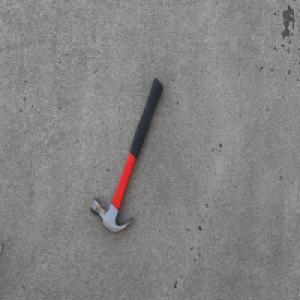Hammer: (89, 76, 164, 234)
